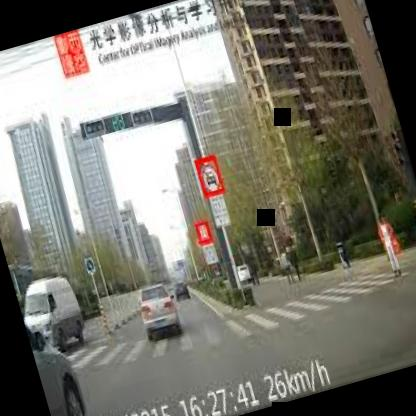car: (24, 303, 119, 416), (15, 258, 98, 361), (124, 258, 192, 354), (161, 266, 196, 310), (234, 258, 254, 290)
